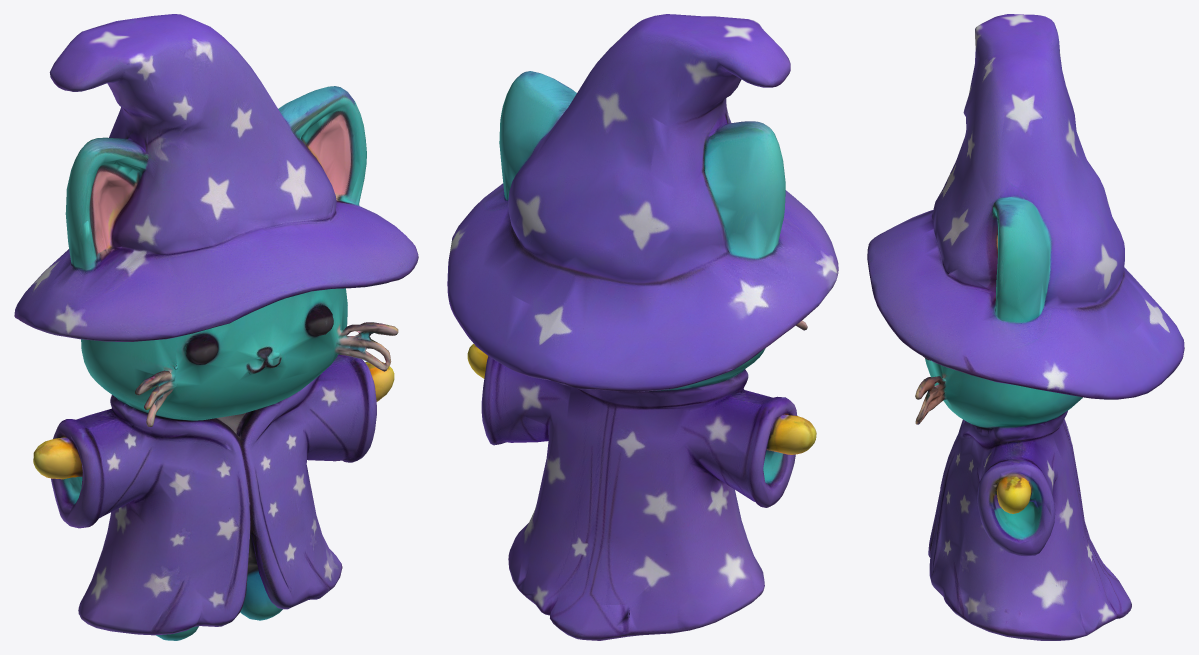
Rendered from hero3d-cat2-anim.glb.
The picture shows the model from 3 angles, left to right: view 1: azimuth 30°, elevation 25°; view 2: azimuth 150°, elevation 25°; view 3: azimuth 270°, elevation 25°; orthographic projection. The views are drawn at different scales.
Bounding box in the file's own units: 1.25 × 2 × 1.05.
1 material, 1 textured.
